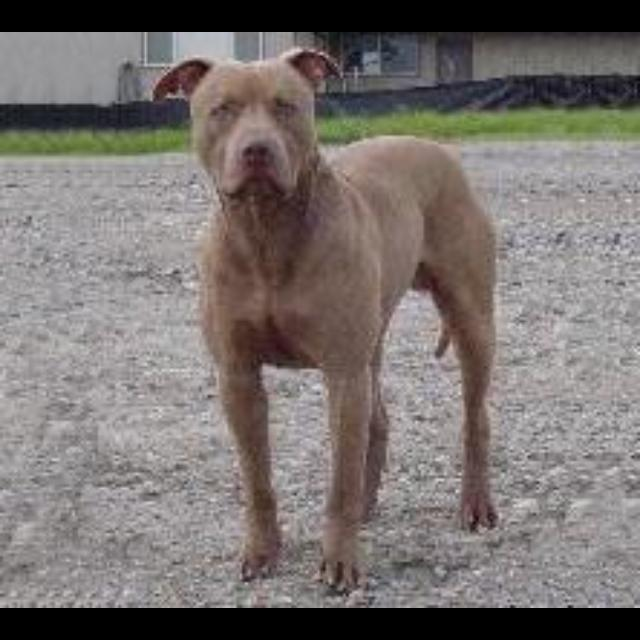staffford: (151, 45, 499, 595)
